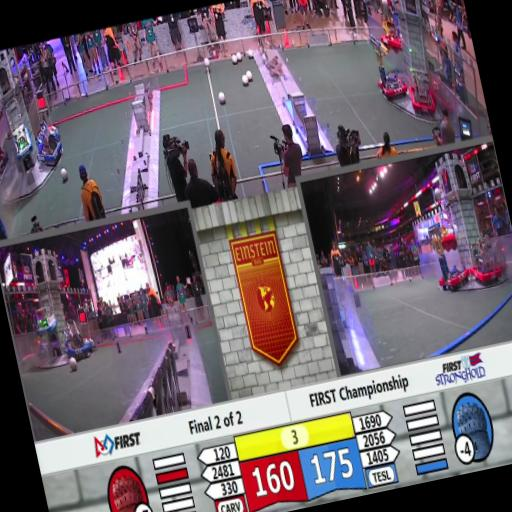robot: (366, 32, 410, 103), (428, 228, 470, 290), (3, 97, 36, 161), (466, 232, 505, 286), (28, 120, 66, 166), (405, 66, 438, 118), (32, 86, 62, 140), (58, 322, 92, 360), (72, 304, 96, 353), (431, 208, 458, 250), (376, 16, 404, 54), (29, 303, 60, 336)
